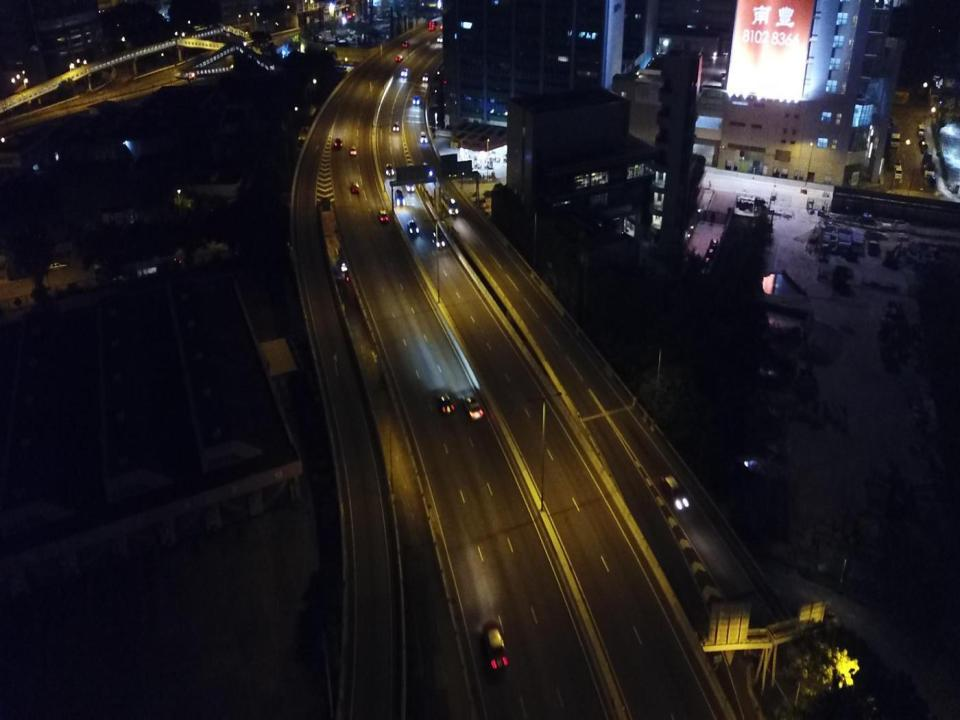bus: (888, 110, 902, 147), (441, 193, 459, 214), (429, 21, 437, 30)
car: (484, 620, 507, 670), (663, 474, 689, 509), (462, 392, 484, 421), (438, 393, 455, 415), (158, 257, 182, 270), (431, 229, 445, 248), (408, 220, 419, 235), (405, 179, 414, 192), (386, 164, 393, 176), (922, 140, 928, 152), (412, 96, 420, 104), (336, 137, 342, 147), (350, 146, 357, 154), (440, 24, 449, 30), (422, 73, 428, 81), (437, 37, 444, 42), (396, 55, 403, 60), (403, 41, 408, 47)
van: (894, 164, 904, 182), (395, 189, 405, 206), (351, 181, 359, 193), (919, 123, 925, 138), (420, 132, 427, 142), (392, 121, 399, 130), (401, 68, 408, 76)
